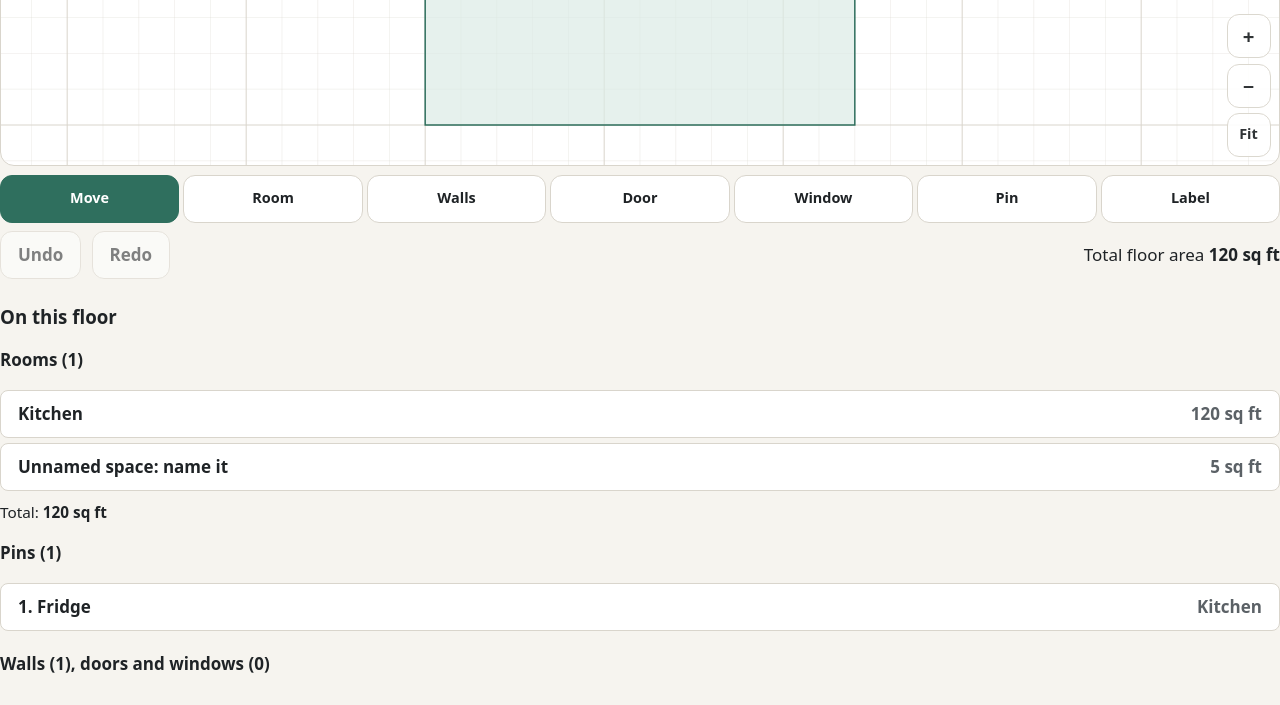
Test: Floor plans screen › opens a room from the list with its area and perimeter
The width and height of the screenshot is (1280, 705).
(page scrolled)
Click the button "Kitchen 120 sq ft" at (50, 413), box [0, 390, 1279, 438]
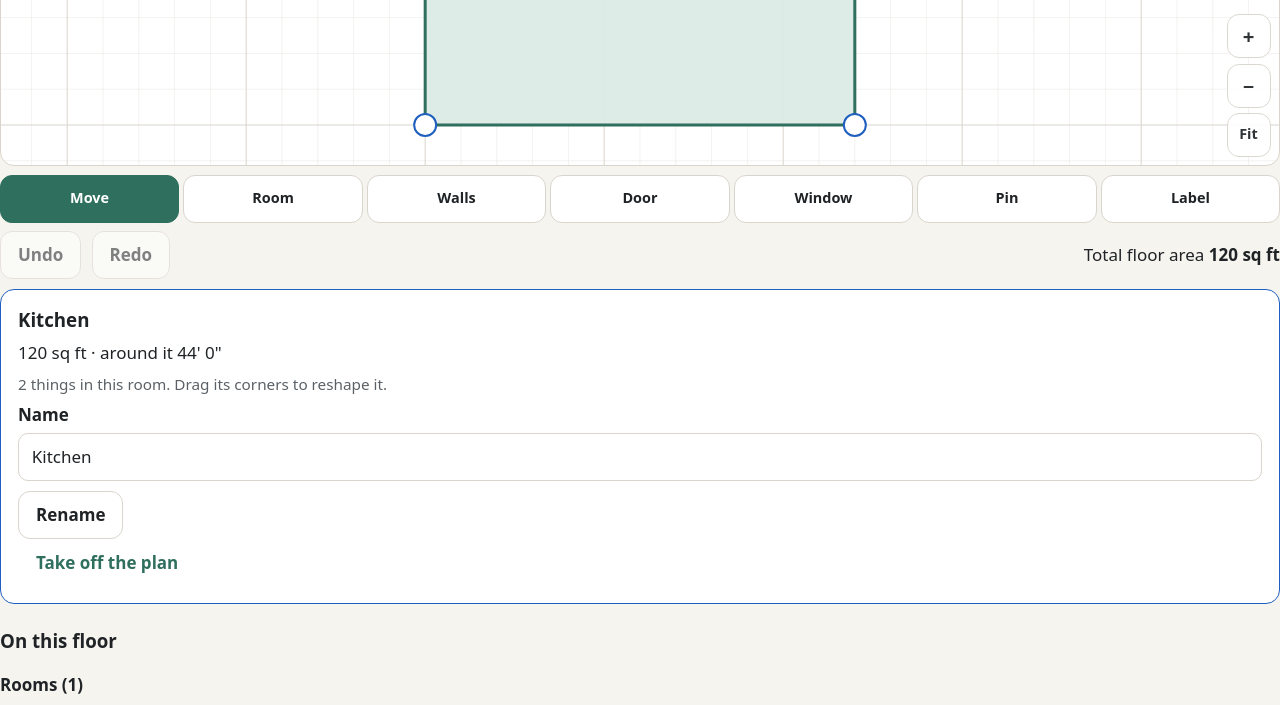
Expected: the form with test id "room-sheet" shows "120 sq ft · around it 44' 0\"", [18, 341, 222, 364]
Expected: the form with test id "room-sheet" shows "2 things in this room", [18, 374, 387, 394]
